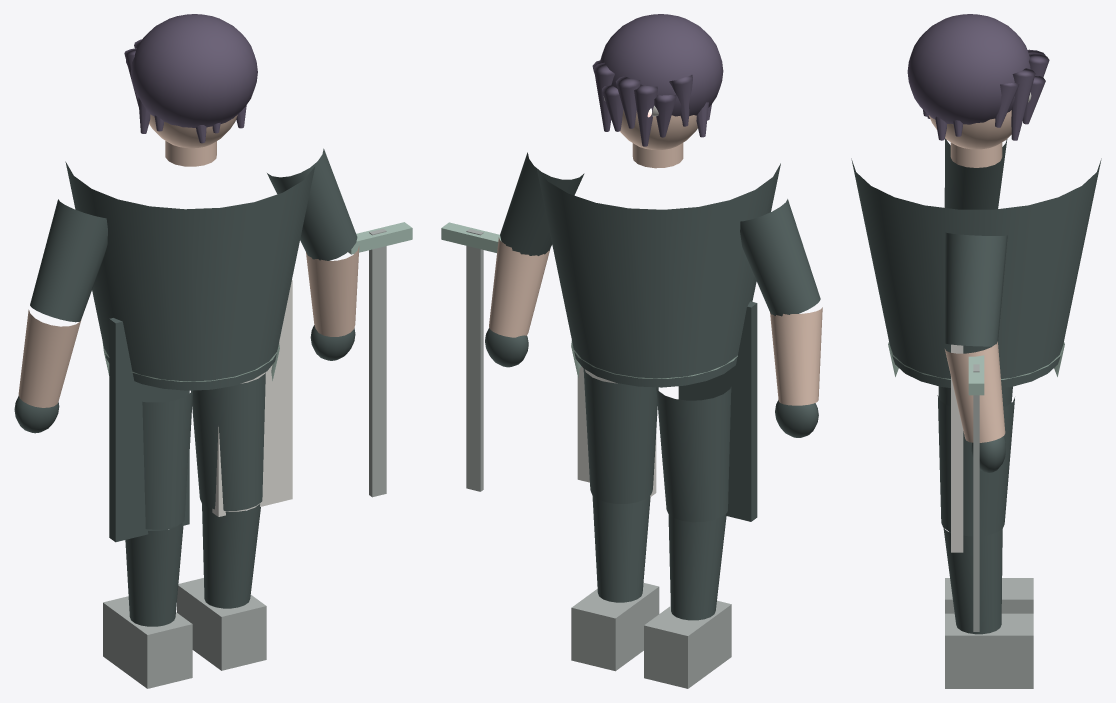
The model's file is evan-procedural-v1.glb.
3 views of the same model, side by side, from view 1: azimuth 30°, elevation 25°; view 2: azimuth 150°, elevation 25°; view 3: azimuth 270°, elevation 25° (orthographic). The views are drawn at different scales.
Parts seen in each view (by area): view 1: Outfit_Torso, Hair_Cap, Body_Thigh_R, Outfit_CoatTail_L, Body_UpperArm_L, Body_Thigh_L, Outfit_Boot_L, Outfit_CoatTail_R, Outfit_Boot_R, Body_Shin_R, Body_Shin_L, Weapon_SwordBlade (+8 smaller); view 2: Outfit_Torso, Body_Thigh_L, Body_Thigh_R, Hair_Cap, Outfit_CoatTail_L, Body_UpperArm_L, Outfit_Boot_L, Outfit_Boot_R, Body_Shin_R, Body_Shin_L, Weapon_SwordBlade, Body_Forearm_L (+14 smaller); view 3: Outfit_Torso, Hair_Cap, Body_UpperArm_R, Outfit_Boot_R, Body_Thigh_R, Body_Shin_R, Body_Forearm_R, Body_UpperArm_L, Outfit_CoatTail_R, Weapon_SwordBlade, Body_Head, Outfit_Boot_L (+8 smaller).
Boxes of the visible parts, x1,y1,x2,y2 form: Outfit_Torso: (65,161,314,390); Hair_Cap: (131,14,257,127); Body_Thigh_R: (191,372,265,510); Outfit_CoatTail_L: (109,318,189,542); Body_UpperArm_L: (30,199,107,322); Body_Thigh_L: (142,390,192,529); Outfit_Boot_L: (103,596,192,688); Outfit_CoatTail_R: (212,280,292,516); Outfit_Boot_R: (177,578,266,670); Body_Shin_R: (202,503,260,608); Body_Shin_L: (125,523,183,626); Weapon_SwordBlade: (369,228,386,497); Outfit_Torso: (536,163,780,387); Body_Thigh_L: (656,387,731,522); Body_Thigh_R: (583,369,658,503); Hair_Cap: (600,14,723,116); Outfit_CoatTail_L: (678,301,757,521); Body_UpperArm_L: (740,199,820,316); Outfit_Boot_L: (644,600,731,688); Outfit_Boot_R: (571,583,659,671); Body_Shin_R: (592,495,650,602); Body_Shin_L: (668,514,726,620); Weapon_SwordBlade: (466,229,483,491); Body_Forearm_L: (770,307,822,405); Outfit_Torso: (851,158,1101,387); Hair_Cap: (907,14,1030,124); Body_UpperArm_R: (944,232,1007,346); Outfit_Boot_R: (945,613,1033,688); Body_Thigh_R: (937,395,1014,536); Body_Shin_R: (943,528,1002,634); Body_Forearm_R: (945,341,1005,442); Body_UpperArm_L: (944,138,1007,209); Outfit_CoatTail_R: (951,344,963,552); Weapon_SwordBlade: (973,364,979,631); Body_Head: (928,110,1011,149); Outfit_Boot_L: (945,578,1033,613).
Size of the model in its own units: 1.25 by 2 by 0.7106.
